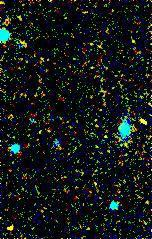star: (0, 211, 28, 239)
